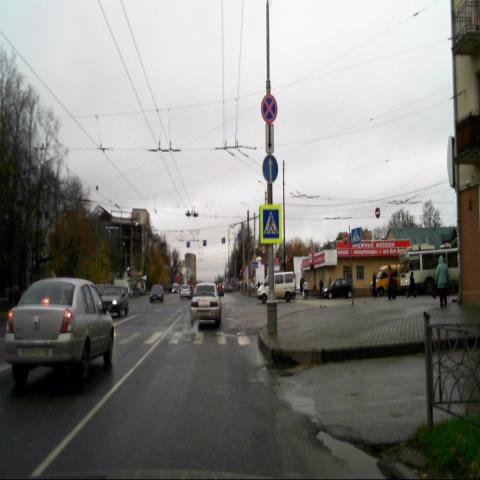3_27: (261, 94, 277, 123)
4_1_1: (262, 154, 278, 183)
5_19_1: (260, 205, 281, 243), (352, 227, 360, 244)
